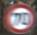Speed Limit -70-: (0, 0, 36, 34)
